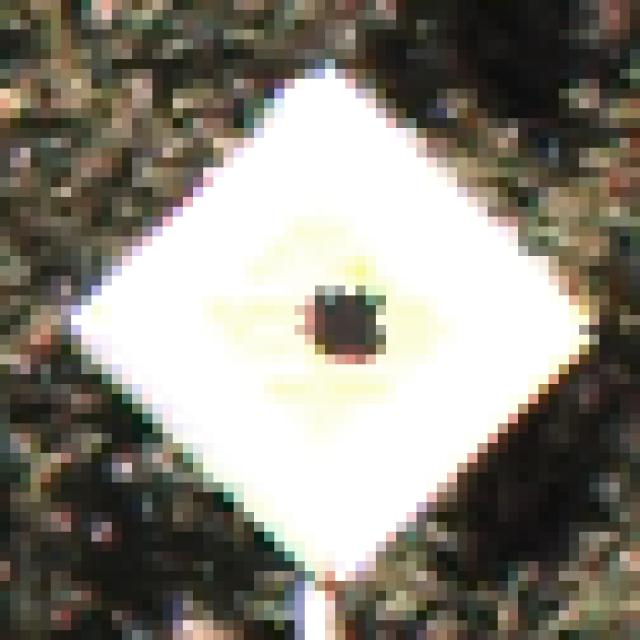Main Road: (62, 60, 590, 592)
